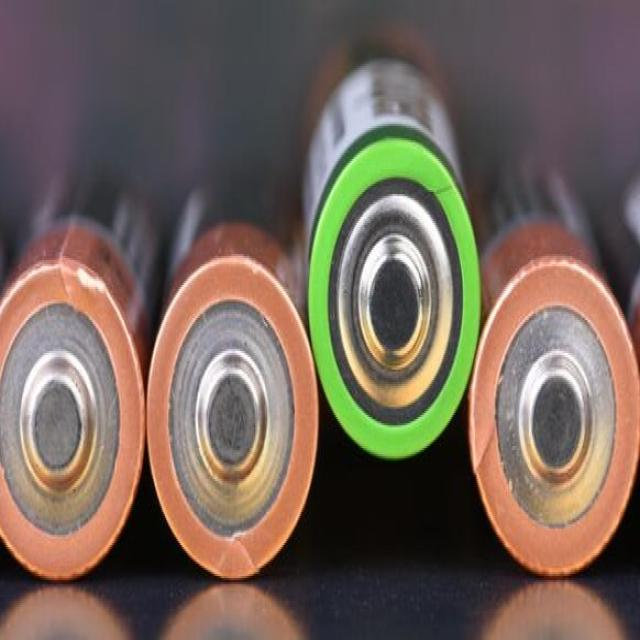electronic: (464, 125, 640, 617), (292, 36, 480, 479), (0, 155, 167, 640), (153, 146, 316, 636)
